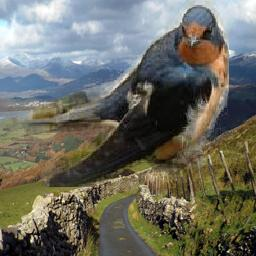Swallow: (7, 1, 230, 187)
